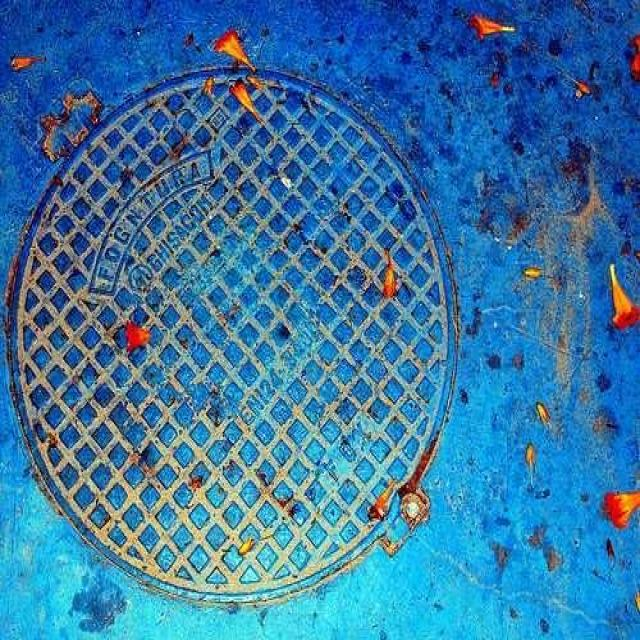manhole: (11, 67, 458, 602)
